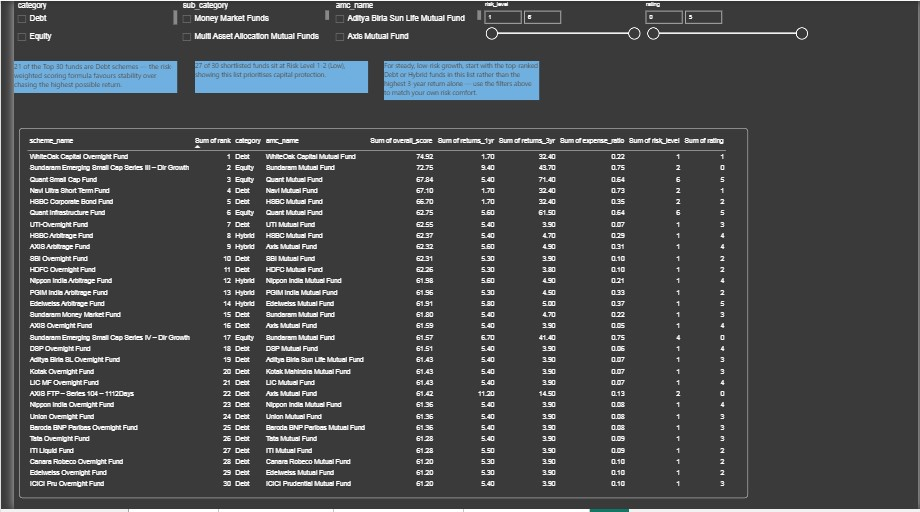

This screenshot's page, from the dashboard's own definition file:
{"tool":"powerbi","page":{"name":"Top 30 Shortlist","canvas":[1920,1080],"ordinal":3},"visuals":[{"type":"tableEx","fields":{"Values":["Top30.scheme_name","Sum(Top30.rank)","Top30.category","Top30.amc_name","Sum(Top30.overall_score)","Sum(Top30.returns_1yr)","Sum(Top30.returns_3yr)","Sum(Top30.expense_ratio)","Sum(Top30.risk_level)","Sum(Top30.rating)"]},"box":[10.6,270,1549.8,786.6],"z":0},{"type":"slicer","fields":{"Values":["Cleaned_Data.sub_category"]},"box":[351.1,0,319.1,95.7],"z":1000},{"type":"slicer","fields":{"Values":["Cleaned_Data.category"]},"box":[0,0,346.8,95.7],"z":2000},{"type":"slicer","fields":{"Values":["Cleaned_Data.amc_name"]},"box":[676.6,0,317,95.7],"z":3000},{"type":"slicer","fields":{"Values":["Cleaned_Data.risk_level"]},"box":[993.6,0,342.6,100],"z":4000},{"type":"slicer","fields":{"Values":["Cleaned_Data.rating"]},"box":[1336.2,0,355.3,100],"z":5000},{"type":"textbox","box":[0,127.6,346.5,68],"z":5001},{"type":"textbox","box":[384.8,127.6,367.8,68],"z":5002},{"type":"textbox","box":[786.6,127.6,329.5,82.9],"z":5003}]}

Visuals, with their boxes in screenshot pixels (x1, y1, x2, y2), scaled from the page's 1920x1080 canvas onto the 920x512 screenshot:
tableEx - Top30.scheme_name x Sum(Top30.rank): x1=5 y1=128 x2=748 y2=501
slicer - Cleaned_Data.sub_category: x1=168 y1=0 x2=321 y2=45
slicer - Cleaned_Data.category: x1=0 y1=0 x2=166 y2=45
slicer - Cleaned_Data.amc_name: x1=324 y1=0 x2=476 y2=45
slicer - Cleaned_Data.risk_level: x1=476 y1=0 x2=640 y2=47
slicer - Cleaned_Data.rating: x1=640 y1=0 x2=811 y2=47
textbox: x1=0 y1=60 x2=166 y2=93
textbox: x1=184 y1=60 x2=361 y2=93
textbox: x1=377 y1=60 x2=535 y2=100
